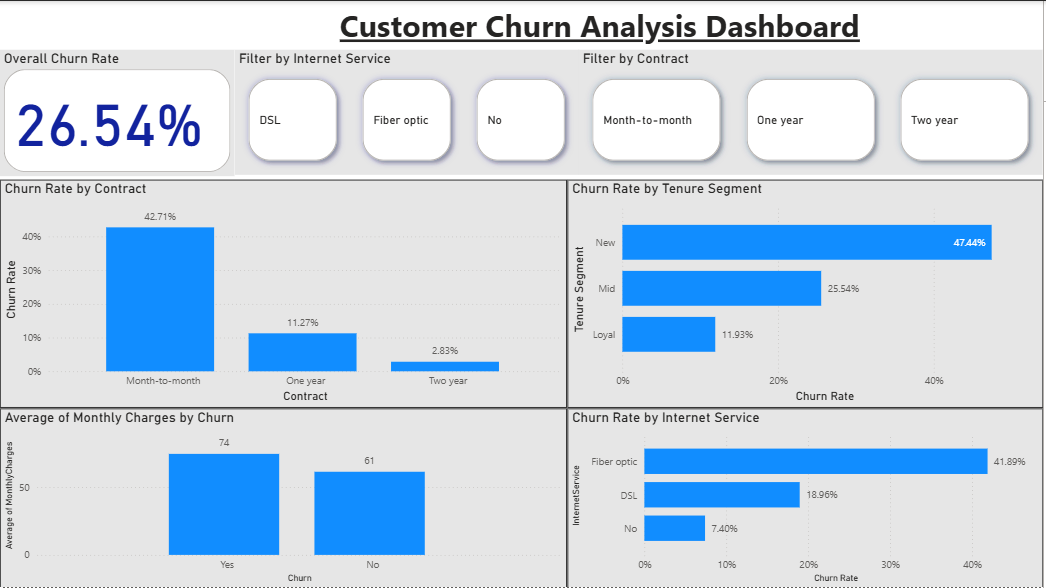

What the dashboard file says about the page in this screenshot:
{"tool":"powerbi","page":{"name":"Page 1","canvas":[1280,720],"ordinal":0},"visuals":[{"type":"cardVisual","title":"Overall Churn Rate","fields":{"Data":["customers.Churn Rate"]},"box":[0,59.4,288,155.4],"z":0},{"type":"clusteredColumnChart","fields":{"Category":["customers.Contract"],"Y":["customers.Churn Rate"]},"box":[0,219.4,696.4,280.4],"z":1000},{"type":"barChart","fields":{"Category":["customers.Tenure Segment"],"Y":["customers.Churn Rate"]},"box":[696.4,219.4,583.6,280.4],"z":2000},{"type":"barChart","title":"Churn Rate by Internet Service","fields":{"Y":["customers.Churn Rate"],"Category":["customers.InternetService"]},"box":[696.4,499.8,583.6,221],"z":3000},{"type":"clusteredColumnChart","title":"Average of Monthly Charges by Churn","fields":{"Category":["customers.Churn"],"Y":["Avg(customers.MonthlyCharges)"]},"box":[0,499.8,696.4,221],"z":4000},{"type":"textbox","box":[387,0,699.4,59.4],"z":5000},{"type":"advancedSlicerVisual","title":"Filter by Internet Service","fields":{"Values":["customers.InternetService"]},"box":[288,59.4,422.1,153.9],"z":6000},{"type":"advancedSlicerVisual","title":"Filter by Contract","fields":{"Values":["customers.Contract"]},"box":[710.1,59.4,569.9,153.9],"z":7000}]}

Visuals, with their boxes in screenshot pixels (x1, y1, x2, y2), scaled from the page's 1280x720 canvas onto the 1046x588 screenshot:
"Overall Churn Rate" cardVisual: [0,49,235,175]
clusteredColumnChart - customers.Contract x customers.Churn Rate: [0,179,569,408]
barChart - customers.Tenure Segment x customers.Churn Rate: [569,179,1045,408]
"Churn Rate by Internet Service" barChart: [569,408,1045,587]
"Average of Monthly Charges by Churn" clusteredColumnChart: [0,408,569,587]
textbox: [316,0,888,49]
"Filter by Internet Service" advancedSlicerVisual: [235,49,580,174]
"Filter by Contract" advancedSlicerVisual: [580,49,1045,174]
